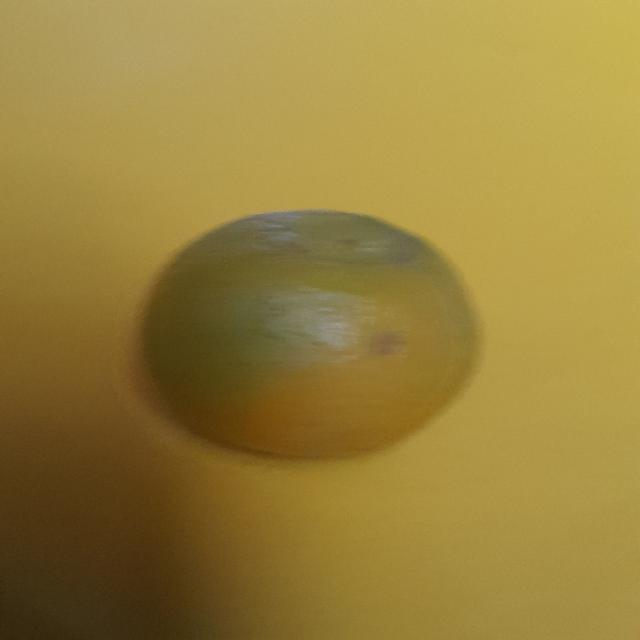greening: (142, 210, 486, 460)
